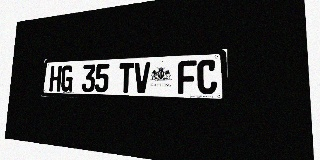3: (82, 64, 96, 92)
5: (95, 64, 110, 92)
C: (197, 59, 217, 94)
F: (178, 60, 196, 94)
G: (60, 65, 74, 92)
H: (49, 66, 62, 92)
T: (118, 63, 134, 93)
V: (134, 62, 150, 93)
